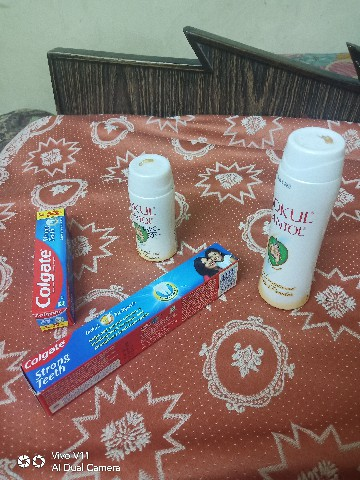colgatetoothpaste big: (21, 243, 251, 416)
colgatetoothpaste small: (20, 192, 83, 334)
gokulsantol big: (257, 116, 350, 322)
gokulsantol small: (121, 145, 183, 262)
